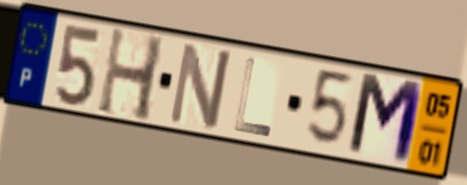5: (51, 19, 107, 109), (304, 67, 355, 151)
H: (94, 24, 169, 127)
L: (231, 54, 274, 140)
M: (343, 69, 427, 170)
N: (165, 39, 235, 132)
